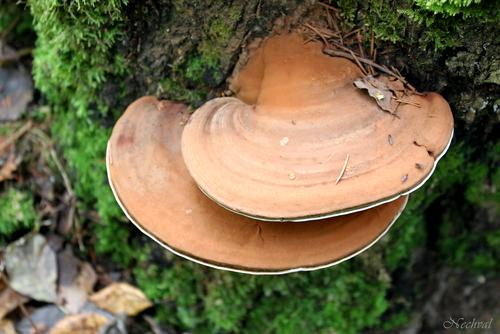Ganoderma - Fruit Body: (104, 36, 458, 273)
